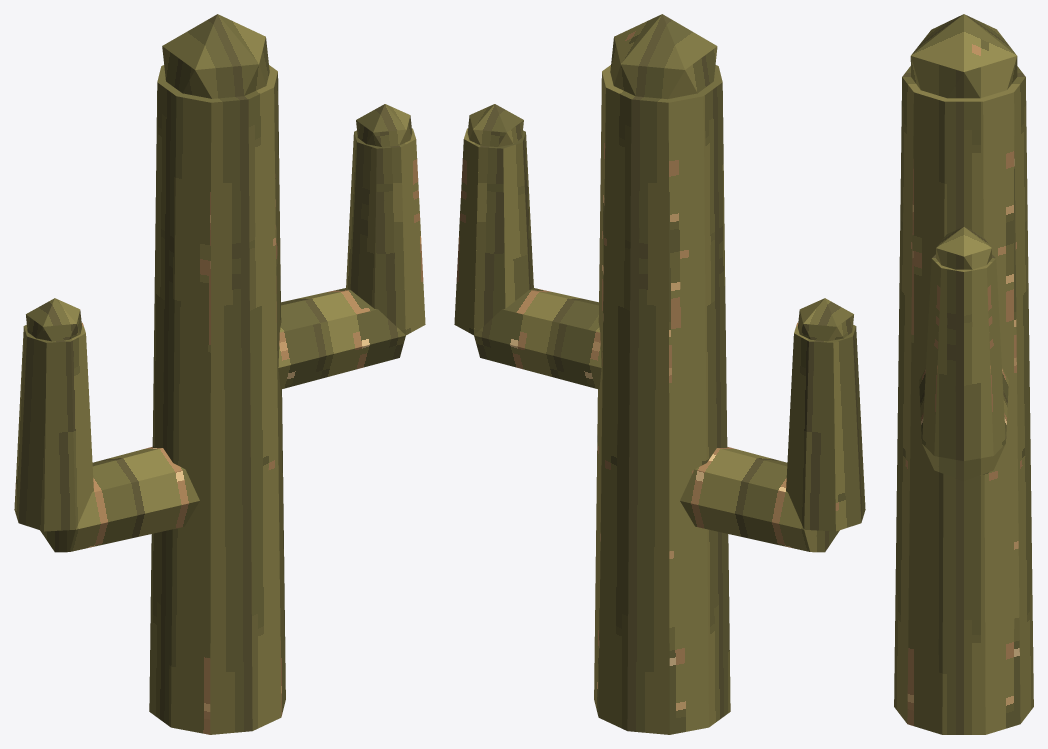
Rendered from arvore_jovem.fbx.
3 views of the same model, side by side, from view 1: azimuth 30°, elevation 25°; view 2: azimuth 150°, elevation 25°; view 3: azimuth 270°, elevation 25° (orthographic).
Parts seen in each view (by area): view 1: deserto_arvore_jovem; view 2: deserto_arvore_jovem; view 3: deserto_arvore_jovem.
Boxes of the visible parts, x1,y1,x2,y2 form: deserto_arvore_jovem: [14, 14, 425, 734]; deserto_arvore_jovem: [454, 14, 865, 734]; deserto_arvore_jovem: [894, 14, 1033, 734].
Size of the model in its own units: 86.6 by 142 by 26.
Materials: 1 (1 with a texture image).
